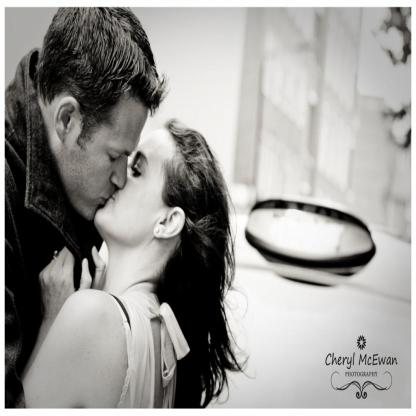face: (75, 99, 148, 222), (95, 130, 180, 233)
